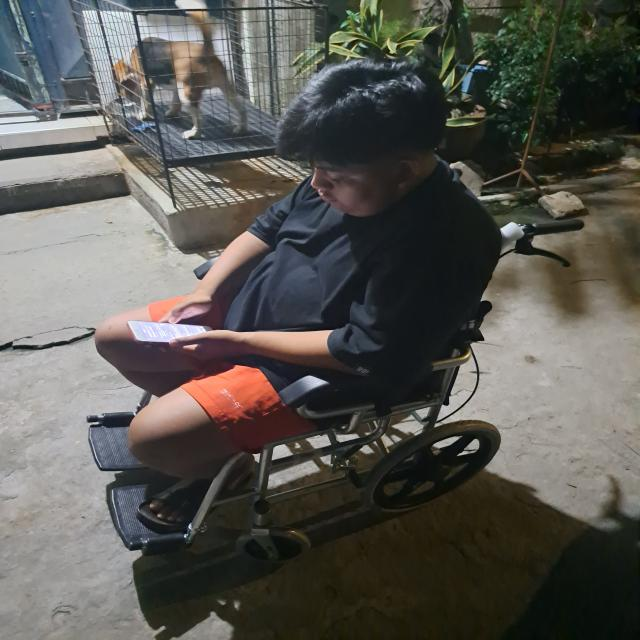wheelchairs: (90, 216, 592, 579)
